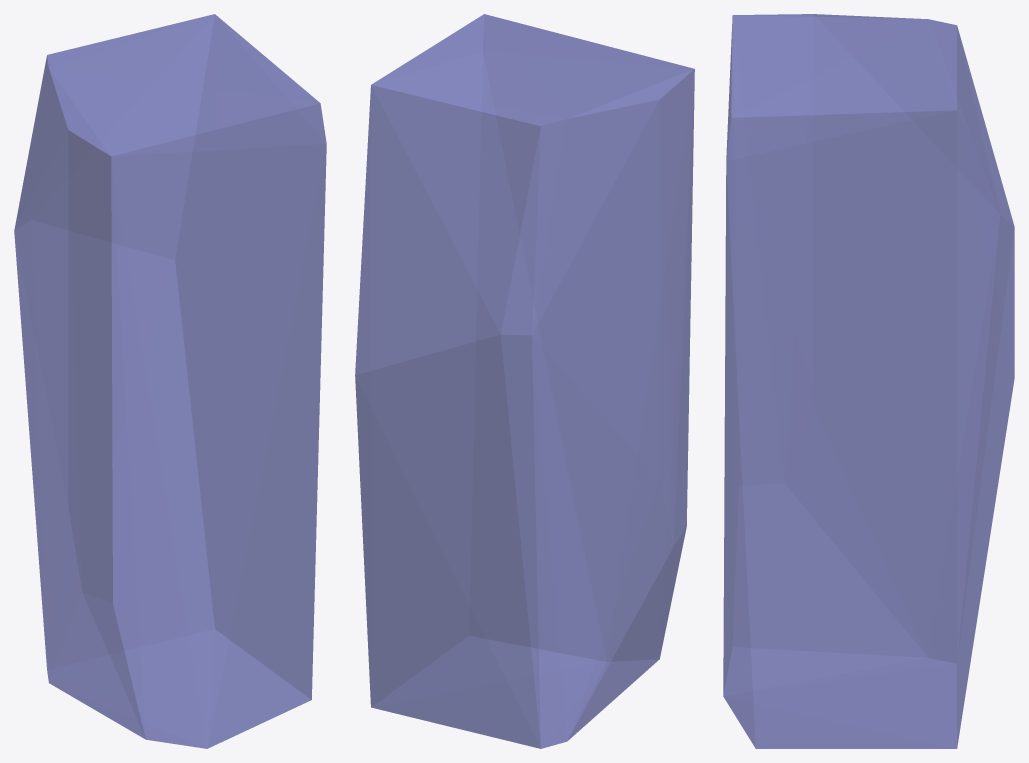
3 views of the same model, side by side, from view 1: azimuth 30°, elevation 25°; view 2: azimuth 150°, elevation 25°; view 3: azimuth 270°, elevation 25° (orthographic). The views are drawn at different scales.
Parts seen in each view (by area): view 1: Shape_IndexedFaceSet.028_Shape_IndexedFaceSet.9000; view 2: Shape_IndexedFaceSet.028_Shape_IndexedFaceSet.9000; view 3: Shape_IndexedFaceSet.028_Shape_IndexedFaceSet.9000.
Part boxes in pixels (x1,y1,x2,y2): Shape_IndexedFaceSet.028_Shape_IndexedFaceSet.9000: (14,14,326,748); Shape_IndexedFaceSet.028_Shape_IndexedFaceSet.9000: (355,14,694,748); Shape_IndexedFaceSet.028_Shape_IndexedFaceSet.9000: (723,14,1014,748).
Size of the model in its own units: 0.1124 by 0.309 by 0.1261.
